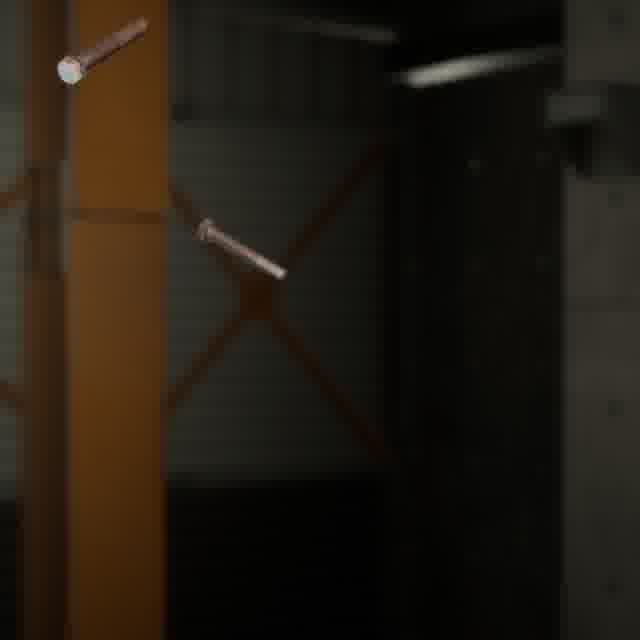bolt: (52, 14, 154, 89), (192, 213, 292, 285)
